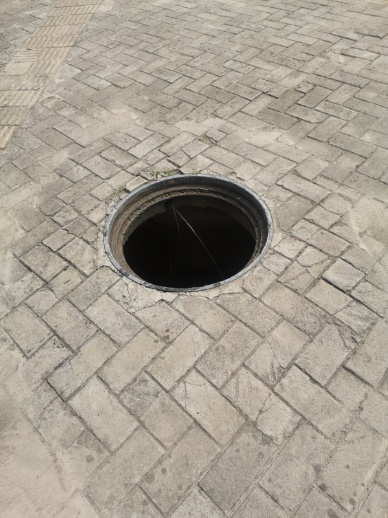lose: (103, 174, 274, 294)
